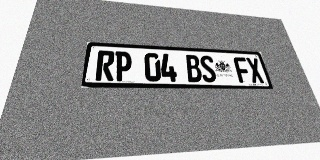0: (144, 53, 161, 82)
4: (160, 53, 177, 82)
B: (185, 55, 203, 82)
F: (233, 57, 252, 83)
P: (114, 51, 132, 81)
R: (95, 50, 115, 81)
S: (199, 55, 218, 82)
X: (245, 57, 265, 83)
